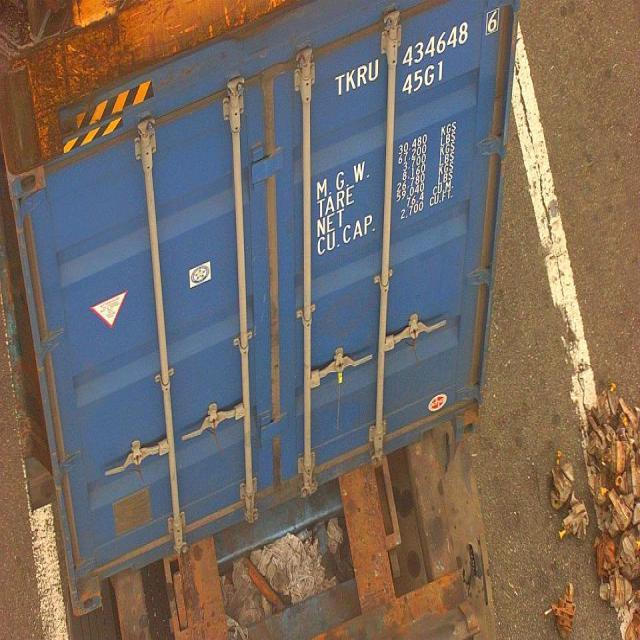ISO: (401, 60, 447, 106)
container_number: (337, 5, 499, 96)
